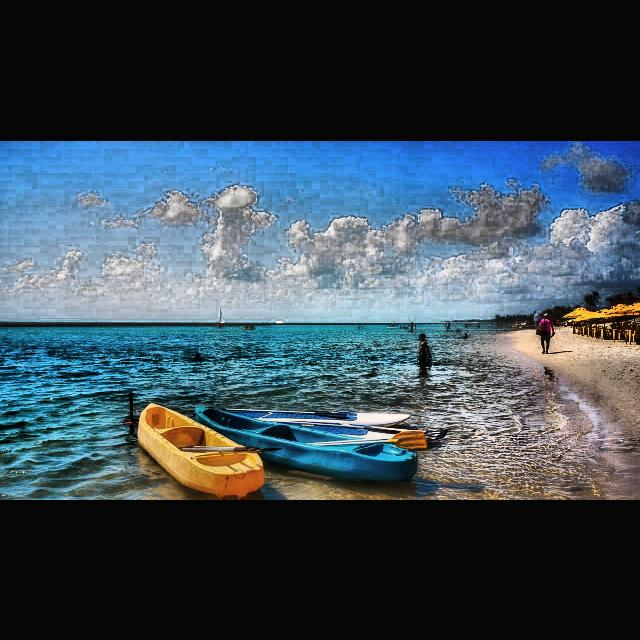kayak: (193, 405, 419, 483), (137, 402, 266, 498), (217, 410, 449, 446), (220, 406, 410, 426)
